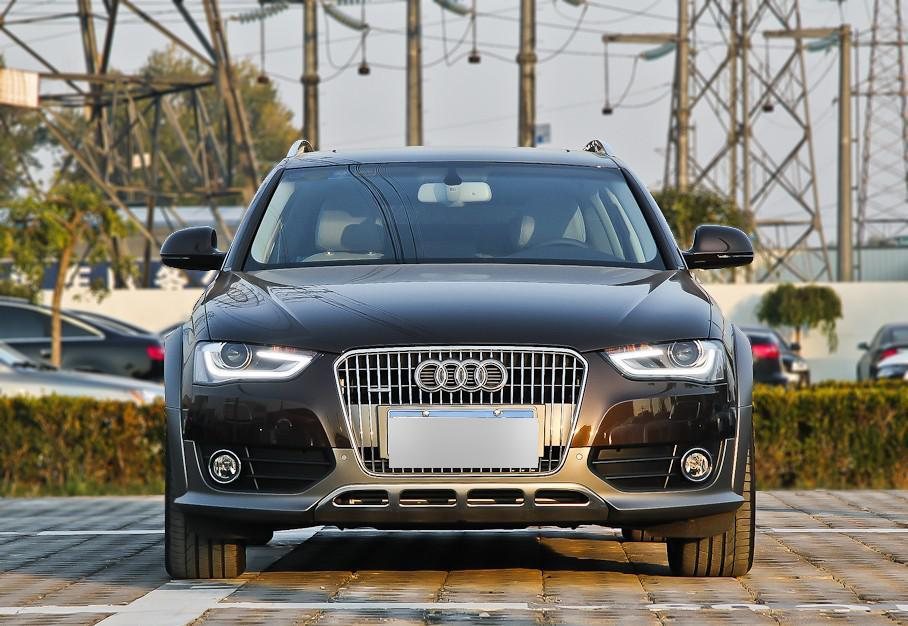Wagon: (157, 136, 759, 578)
